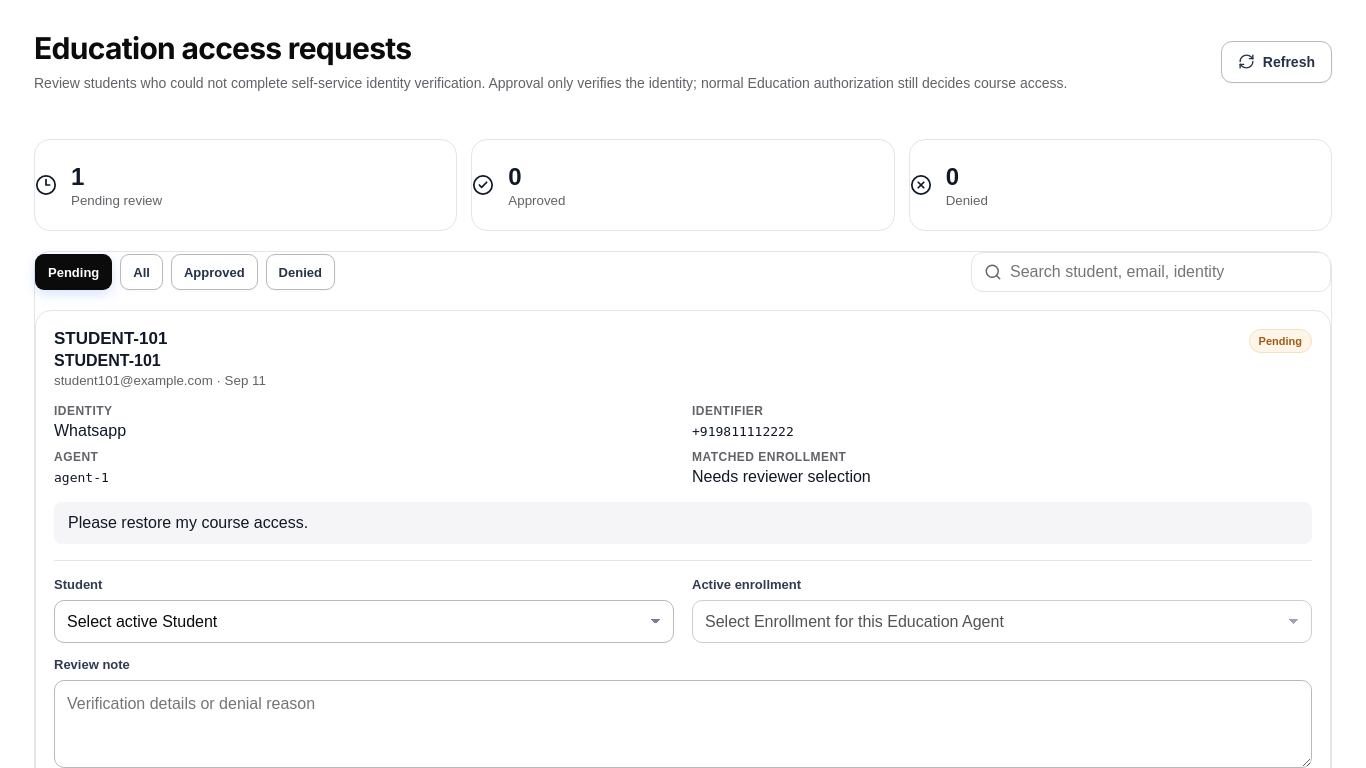
EducationAccessRequestsPage › denies a request without linking Student or Enrollment in the review payload
This screenshot has width=1366, height=768.
Type "Unable to verify enrollment." into the text box labelled "Review note" at {"x": 683, "y": 724}, box [54,680,1312,767]
(page scrolled)
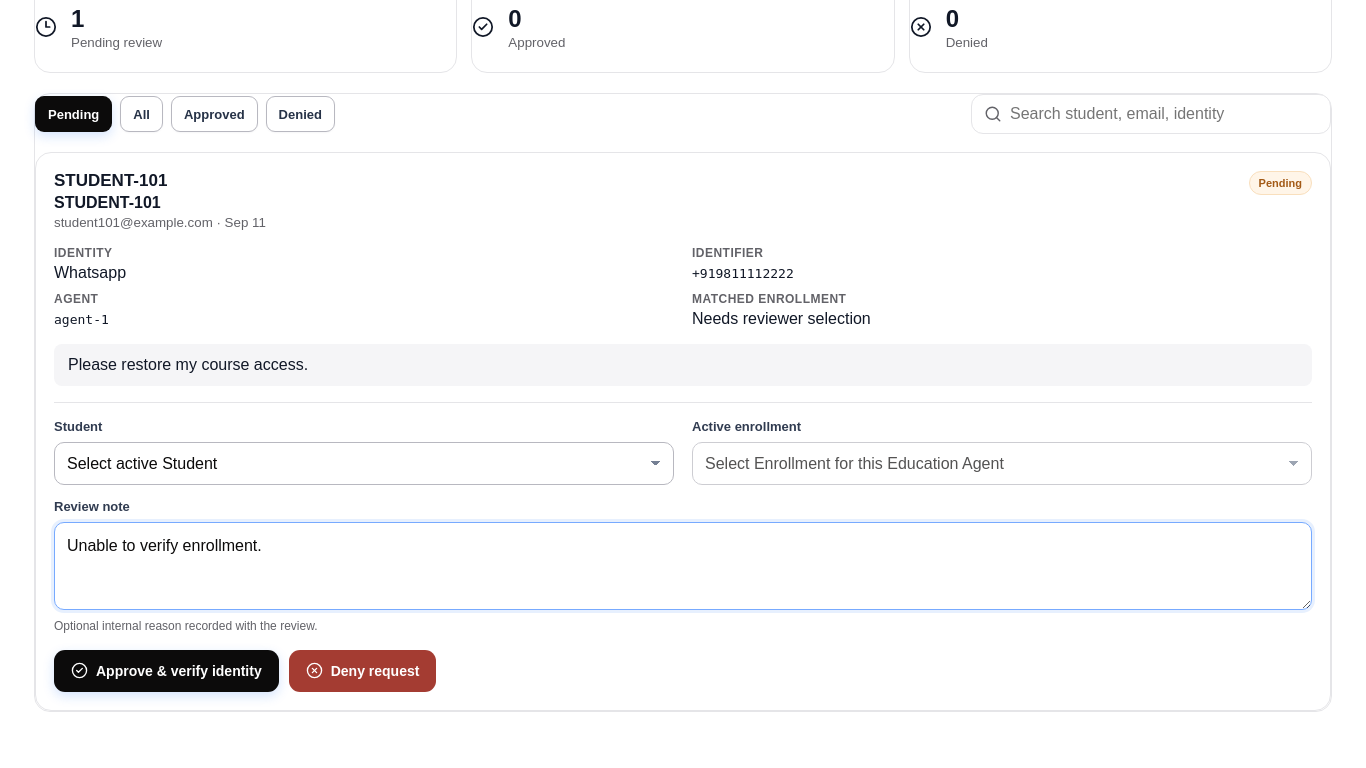
Click the button "Deny request" at {"x": 363, "y": 671}, box [289,650,436,692]
(page scrolled)
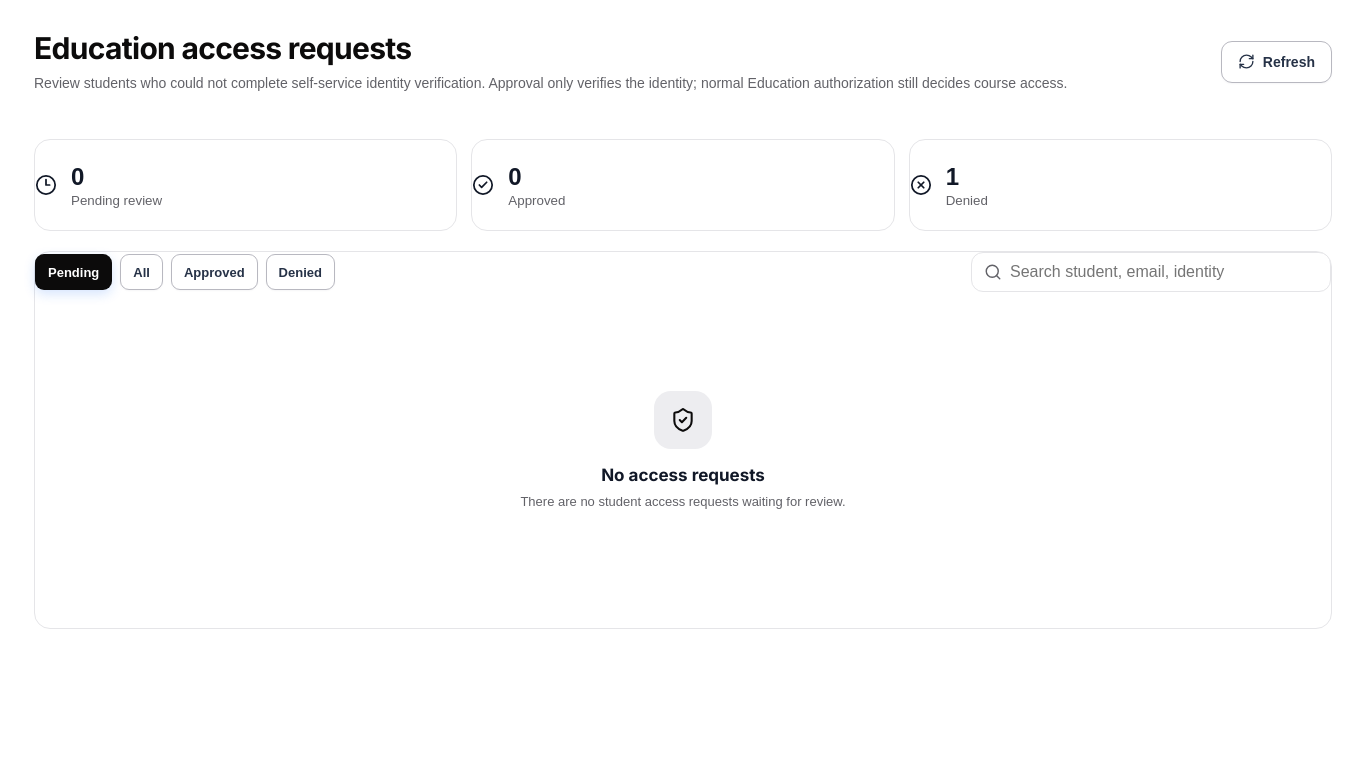
Click the button "All" at {"x": 142, "y": 272}, box [120,254,163,290]
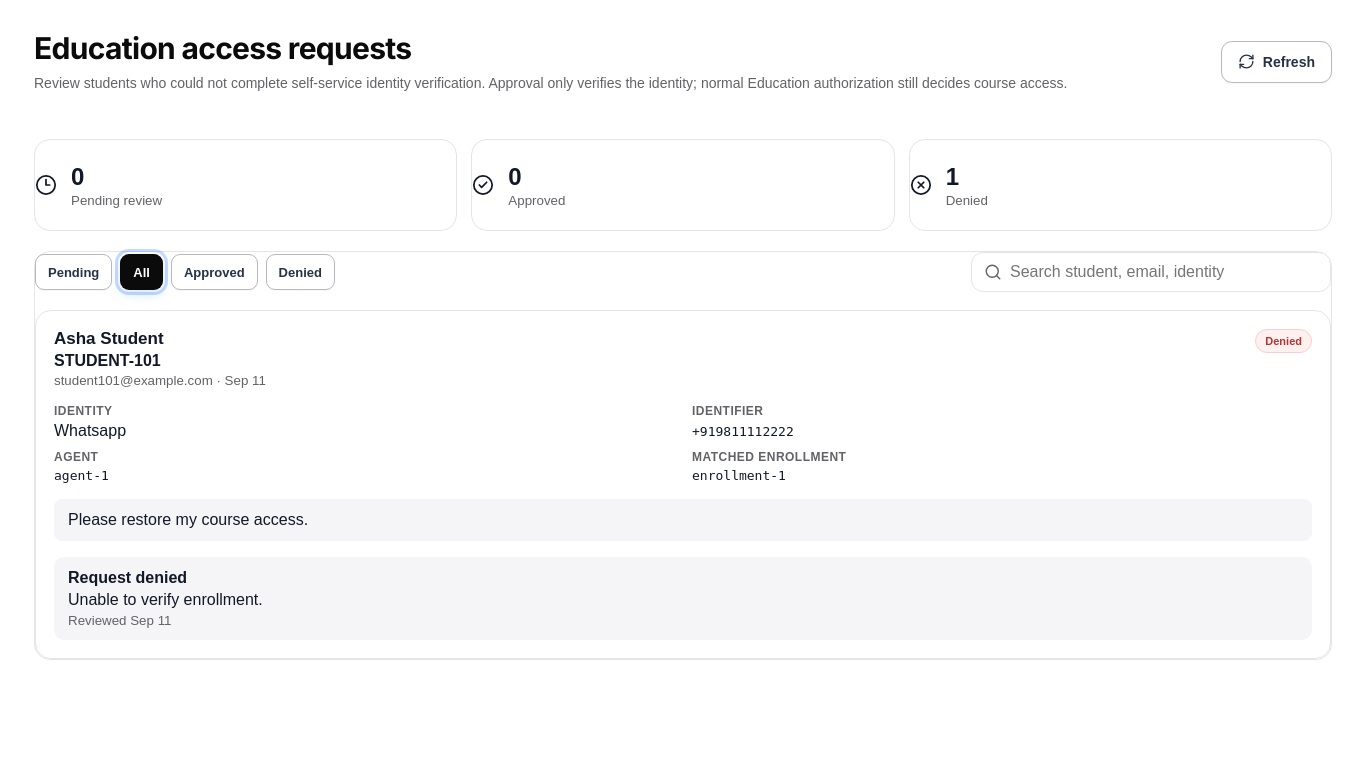
Expected: the text "Request denied" is shown, [68,569,187,586]
